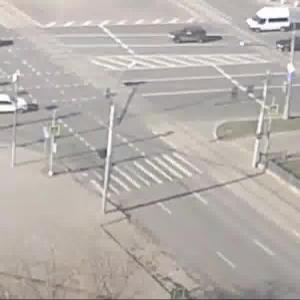car: (246, 8, 296, 33), (170, 25, 210, 45), (1, 92, 30, 115), (276, 38, 300, 52)
